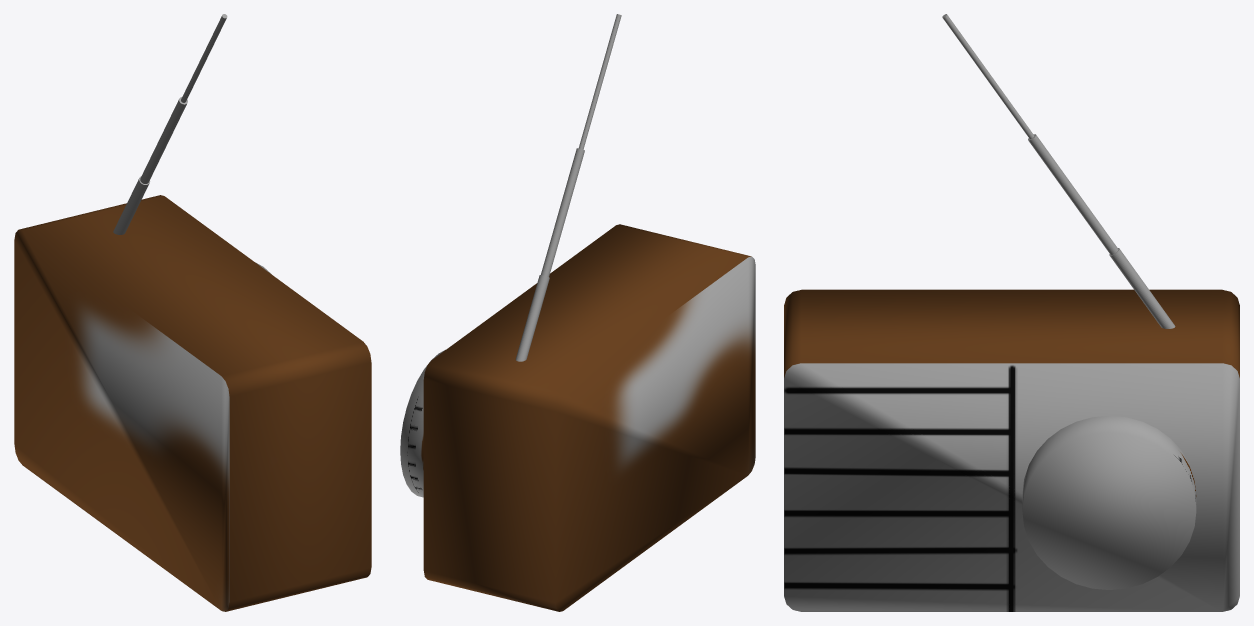
File: Radio.fbx
3 views of the same model, side by side, from view 1: azimuth 30°, elevation 25°; view 2: azimuth 150°, elevation 25°; view 3: azimuth 270°, elevation 25° (orthographic). The views are drawn at different scales.
Visible parts, largest first — view 1: Cube; view 2: Cube; view 3: Cube.
Boxes of the visible parts, x1,y1,x2,y2 form: Cube: [14, 14, 371, 611]; Cube: [400, 14, 755, 611]; Cube: [784, 14, 1239, 611].
Bounding box in the file's own units: 149 × 401 × 295.
1 material, 1 textured.
